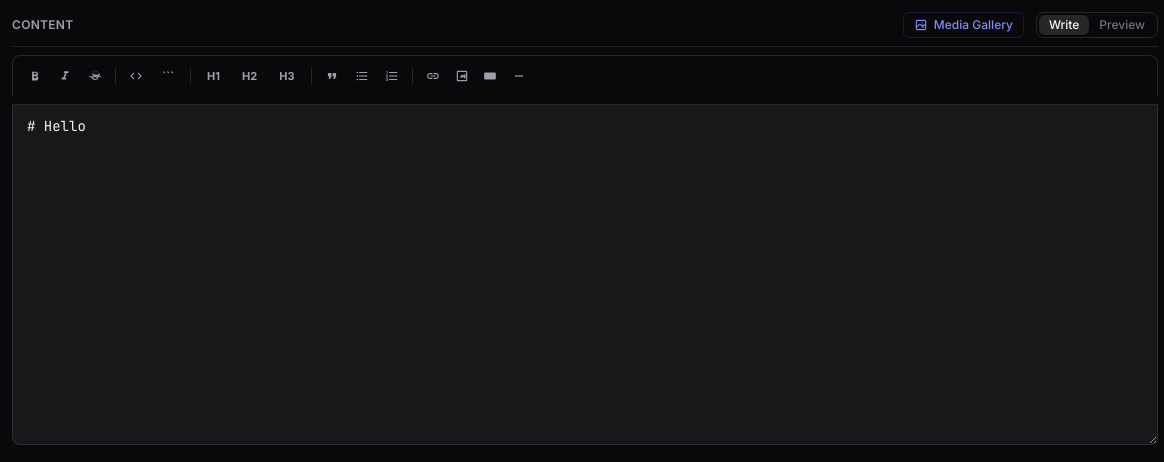
it: MarkdownEditor › switches to preview tab when Preview button is clicked
Click the button "Preview" at {"x": 1122, "y": 25}, box [1089,15,1155,35]
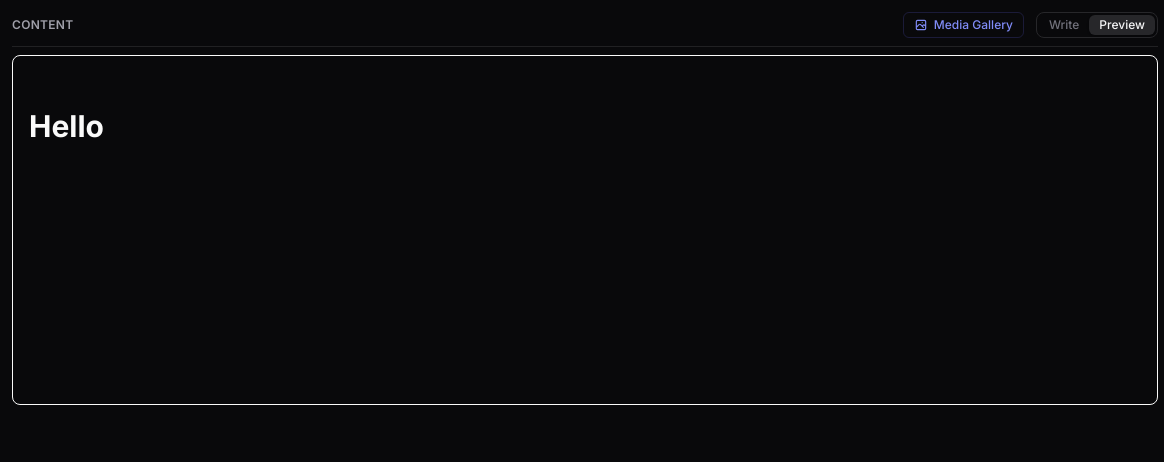
Now the text box is gone
Now the text "Hello" is shown, box [29,108,104,144]
